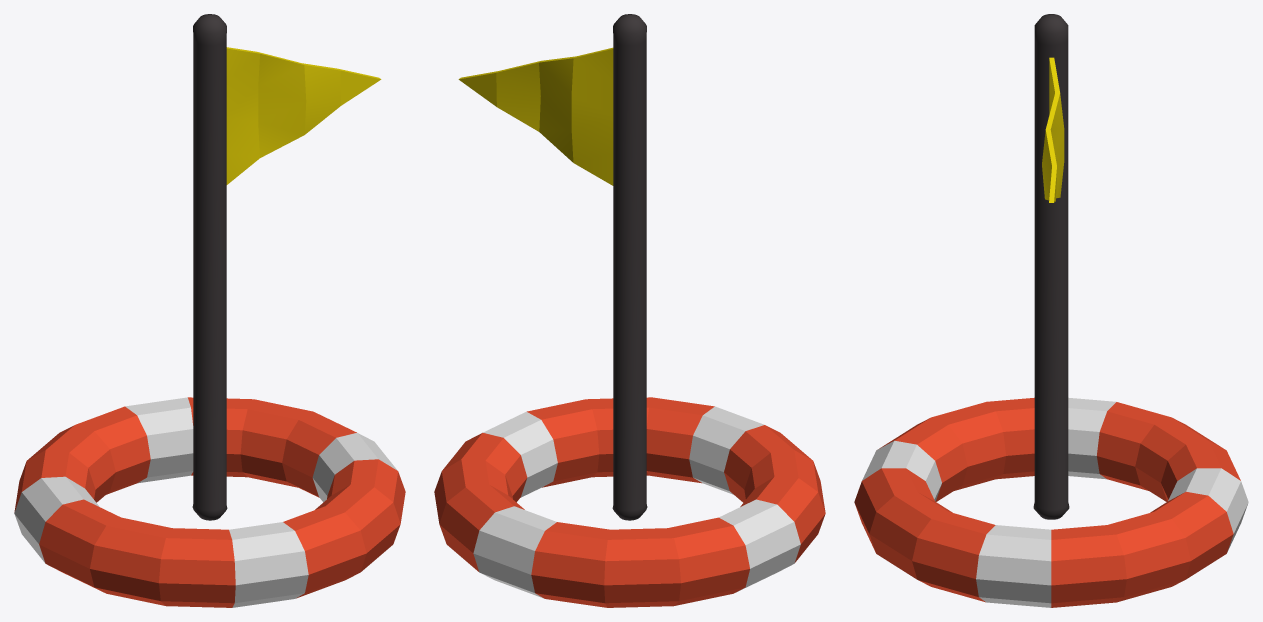
Rendered from lifebuoy_flag_basic.glb.
3 renders of one model, left to right at view 1: azimuth 30°, elevation 25°; view 2: azimuth 150°, elevation 25°; view 3: azimuth 270°, elevation 25°, orthographic.
Parts seen in each view (by area): view 1: 1.056, 0.093, 2.028, primary; view 2: 1.056, 0.093, 2.028, primary; view 3: 1.056, 0.093, 2.028, primary.
Part boxes in pixels (x1=…): 1.056: x1=14, y1=397, x2=405, y2=607; 0.093: x1=192, y1=14, x2=227, y2=520; 2.028: x1=14, y1=397, x2=397, y2=607; primary: x1=226, y1=47, x2=381, y2=184; 1.056: x1=434, y1=397, x2=825, y2=607; 0.093: x1=612, y1=14, x2=647, y2=520; 2.028: x1=473, y1=406, x2=800, y2=598; primary: x1=458, y1=47, x2=613, y2=185; 1.056: x1=854, y1=397, x2=1240, y2=607; 0.093: x1=1033, y1=14, x2=1069, y2=519; 2.028: x1=862, y1=397, x2=1248, y2=607; primary: x1=1042, y1=57, x2=1064, y2=202.
Size of the model in its own units: 0.5068 by 0.7385 by 0.5068.
